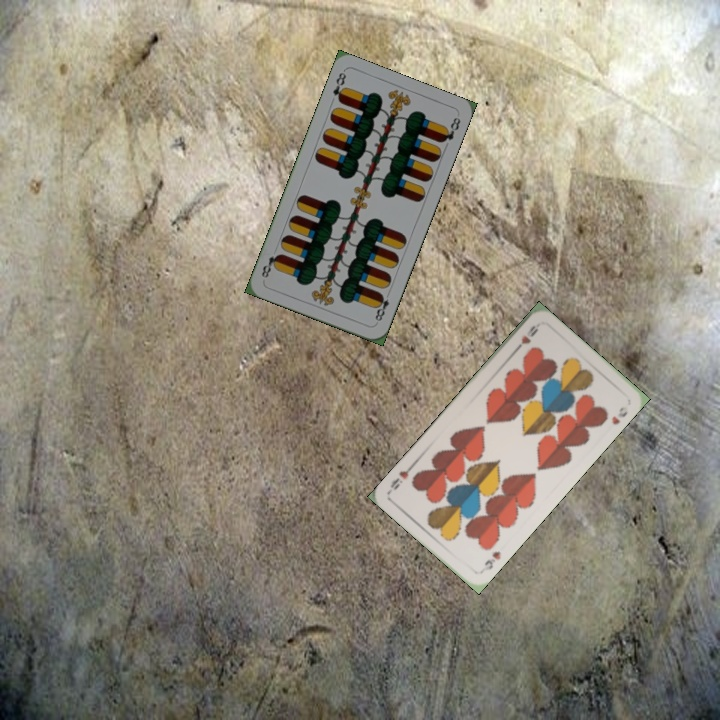E8: (371, 287, 393, 326), (329, 68, 349, 105)
H9: (511, 321, 541, 355), (478, 547, 503, 575)
